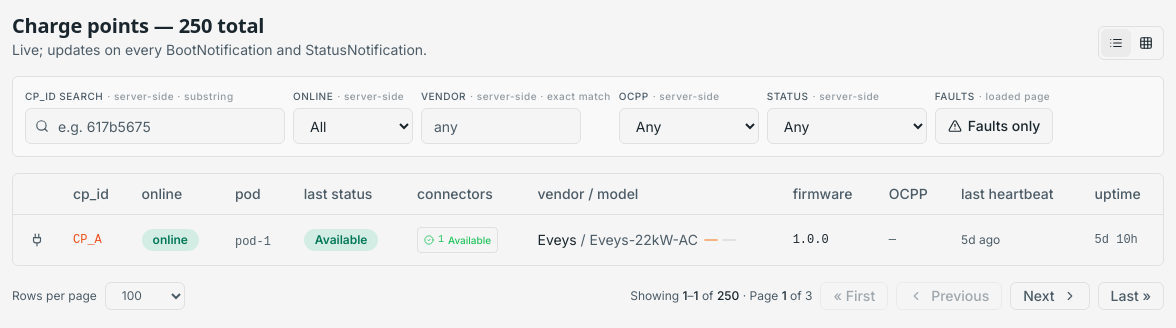
it: FleetPage — pagination › Previous is disabled on page 1 and enabled on page 2+
Expected: the button "Previous" is disabled, [896,282,1002,310]
Click the button "Next" at x=1050, y=296, box [1010,282,1090,310]
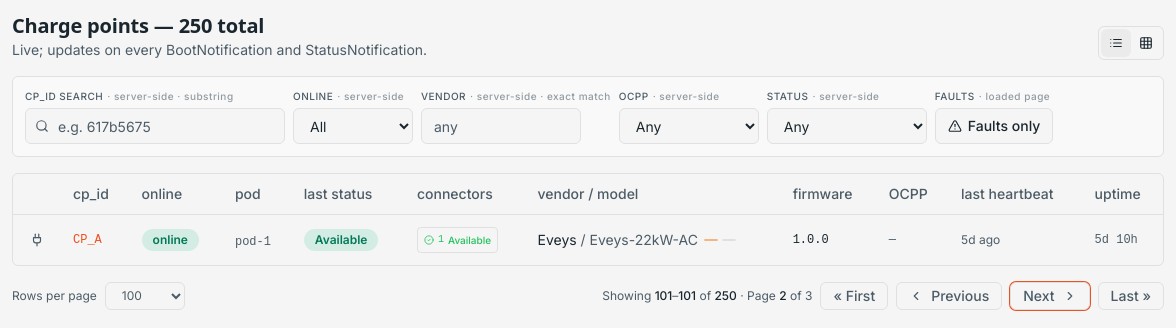
Expected: the button "Previous" is enabled, [896,282,1002,310]
